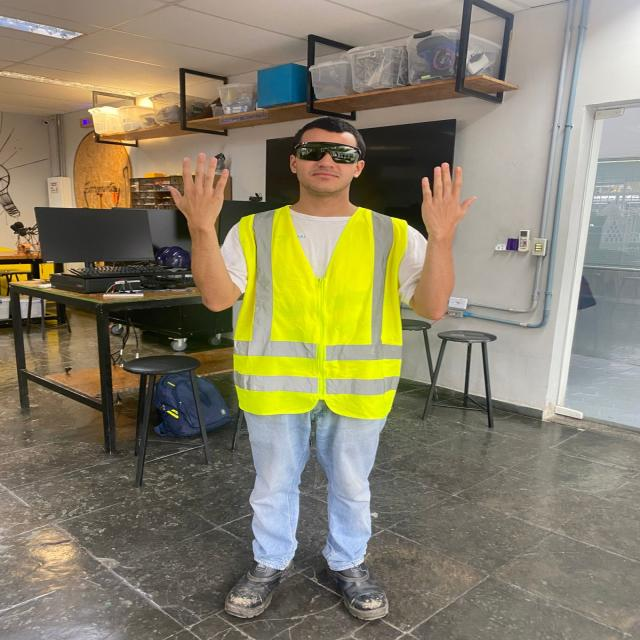BOTA: (318, 545, 395, 621), (233, 550, 299, 621)
COLETE: (224, 195, 412, 422)
OCULOS: (292, 141, 367, 165)
SEM LUVA: (163, 151, 237, 224), (418, 159, 481, 232)
